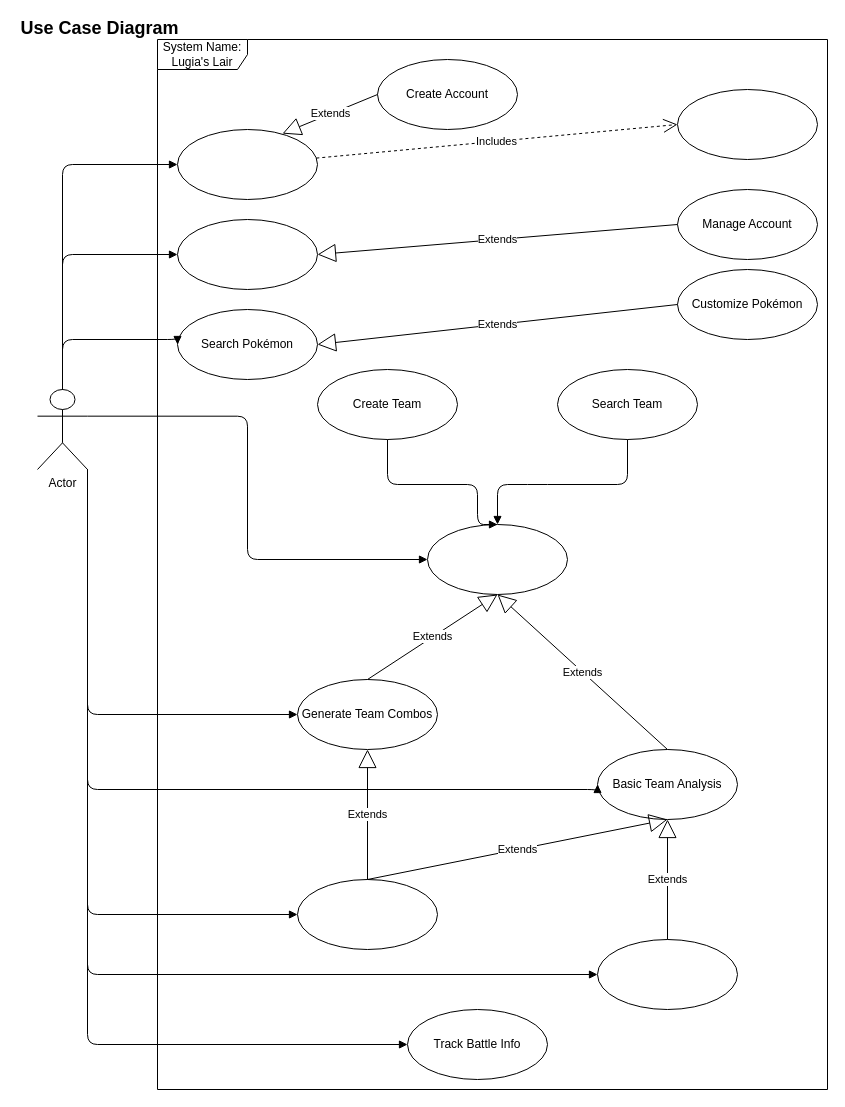
The diagram is 845 pixels wide and 1107 high, and some of its shapes have lost their labels. The box of each missing label's shape, as (x1, y1, x2, y2) in pixels:
Conditional 4-Pokemon Team Generator: (296, 878, 438, 950)
Conditional 6-Pokemon Team Generator: (596, 938, 738, 1010)
Display Account Overview: (176, 218, 318, 290)
Log In: (176, 128, 318, 200)
Select Team: (426, 524, 568, 594)
Verify Credentials: (676, 88, 818, 160)
